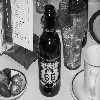beer: (36, 3, 64, 100)
